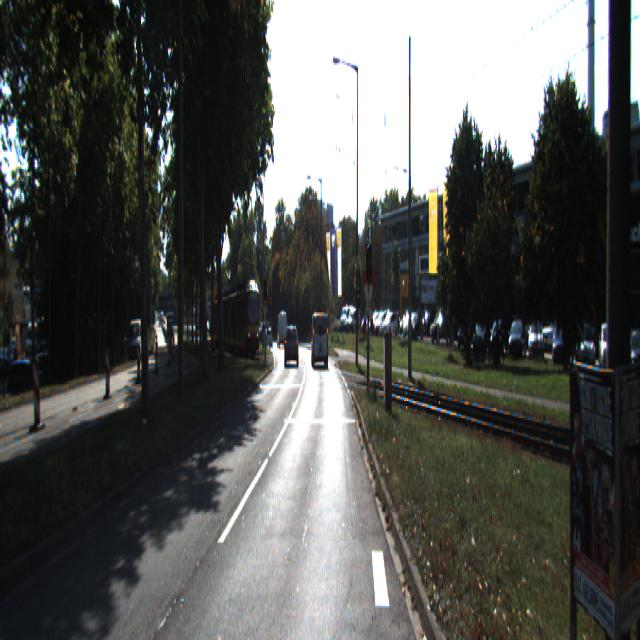Car: (218, 283, 261, 355), (312, 310, 328, 369), (284, 325, 299, 368)
